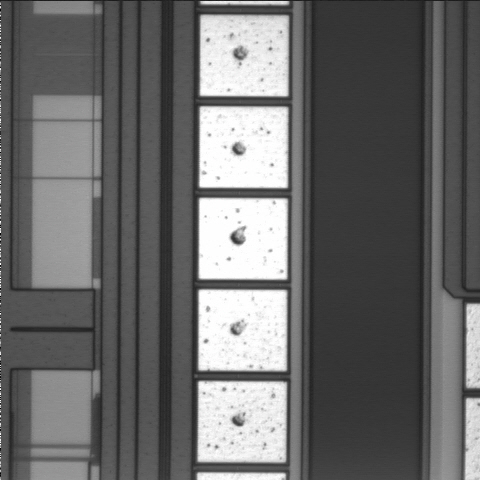pad: (199, 106, 288, 188), (199, 198, 288, 280), (198, 290, 287, 371), (198, 381, 287, 462), (200, 15, 288, 96)
